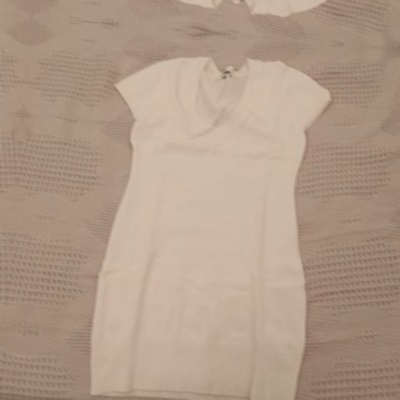Dress: (37, 32, 364, 400), (71, 0, 398, 34), (0, 0, 25, 1)
